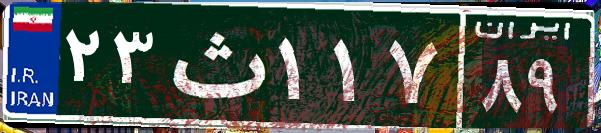1: (273, 28, 330, 110), (330, 28, 385, 110)
2: (57, 26, 110, 107)
3: (110, 28, 158, 105)
7: (385, 28, 445, 110)
8: (475, 38, 525, 113)
9: (525, 38, 570, 115)
ث: (158, 15, 273, 115)
